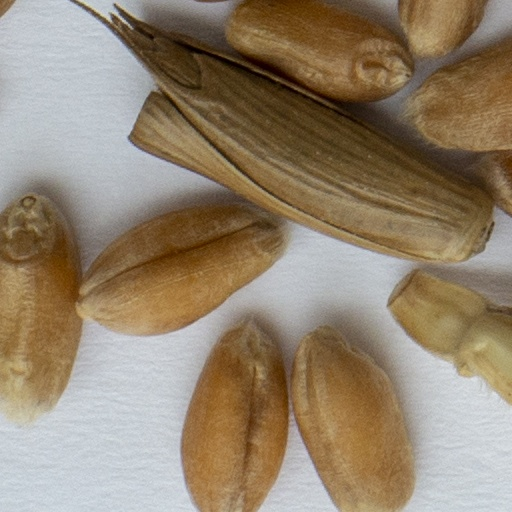Peel-poly: (68, 0, 495, 265), (387, 262, 511, 405)
